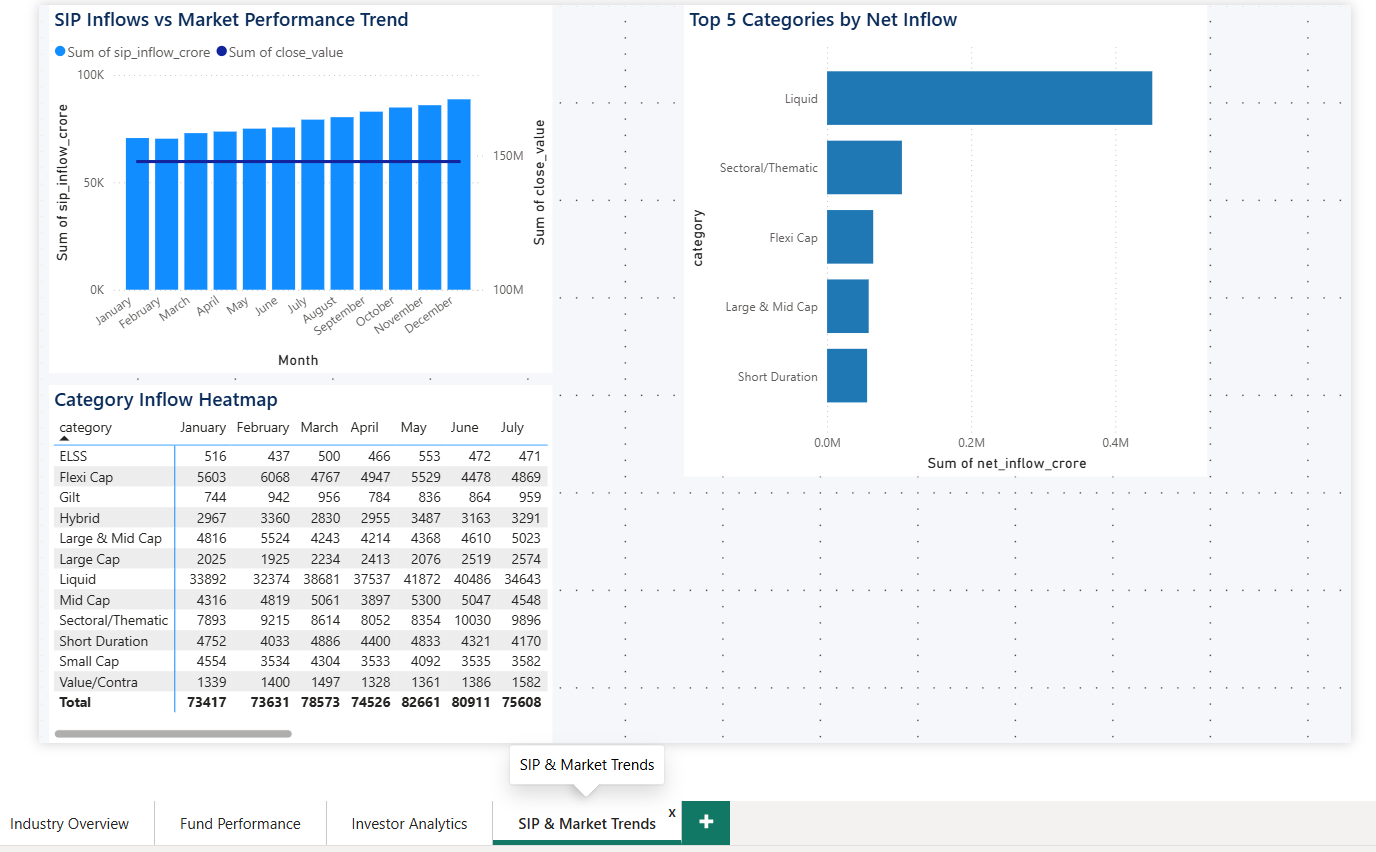

The dashboard page shown, as its layout file describes it:
{"tool":"powerbi","page":{"name":"SIP & Market Trends","canvas":[1280,720],"ordinal":3},"visuals":[{"type":"lineClusteredColumnComboChart","title":"SIP Inflows vs Market Performance Trend","fields":{"Y":["Sum(clean_monthly_sip_inflows.sip_inflow_crore)"],"Y2":["Sum(clean_benchmark_indices.close_value)"],"Category":["clean_monthly_sip_inflows.month.Variation.Date Hierarchy.Month"]},"box":[9.7,0,491,359.5],"z":0},{"type":"pivotTable","title":"Category Inflow Heatmap","fields":{"Rows":["clean_category_inflows.category"],"Values":["Sum(clean_category_inflows.net_inflow_crore)"],"Columns":["clean_category_inflows.month.Variation.Date Hierarchy.Month"]},"box":[9.7,370.4,491,349.9],"z":1000},{"type":"clusteredBarChart","title":"Top 5 Categories by Net Inflow","fields":{"Category":["clean_category_inflows.category"],"Y":["Sum(clean_category_inflows.net_inflow_crore)"]},"box":[629.8,0,510.3,459.7],"z":2000}]}

Visuals, with their boxes on the page's 1280x720 design canvas (x1, y1, x2, y2). These are canvas units, not pixel positions in the 1376x852 screenshot, which may show the page scaled, cropped or inside an application window:
"SIP Inflows vs Market Performance Trend" lineClusteredColumnComboChart: box=[10, 0, 501, 360]
"Category Inflow Heatmap" pivotTable: box=[10, 370, 501, 720]
"Top 5 Categories by Net Inflow" clusteredBarChart: box=[630, 0, 1140, 460]
